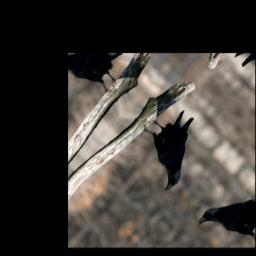Crow: (121, 95, 218, 196)
